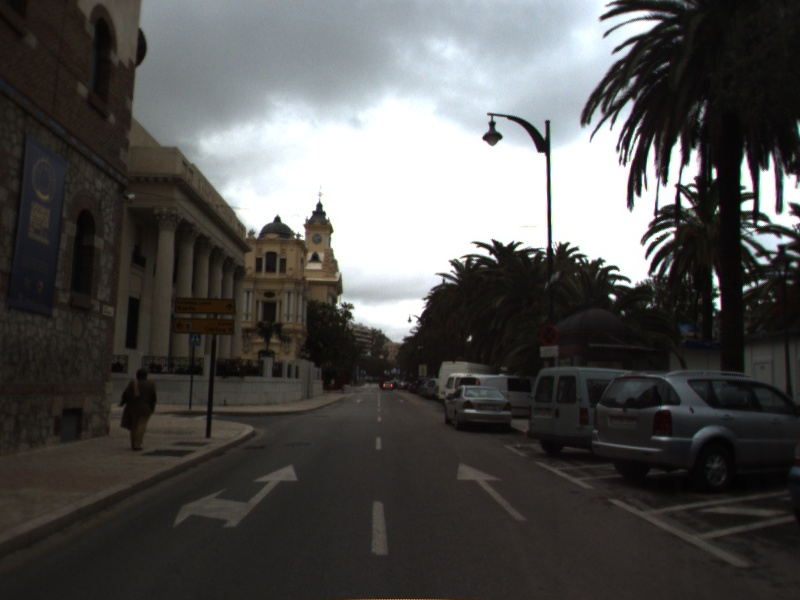STRAIGHT: (454, 459, 530, 523)
STRAIGHT_LEFT: (171, 462, 301, 530)
